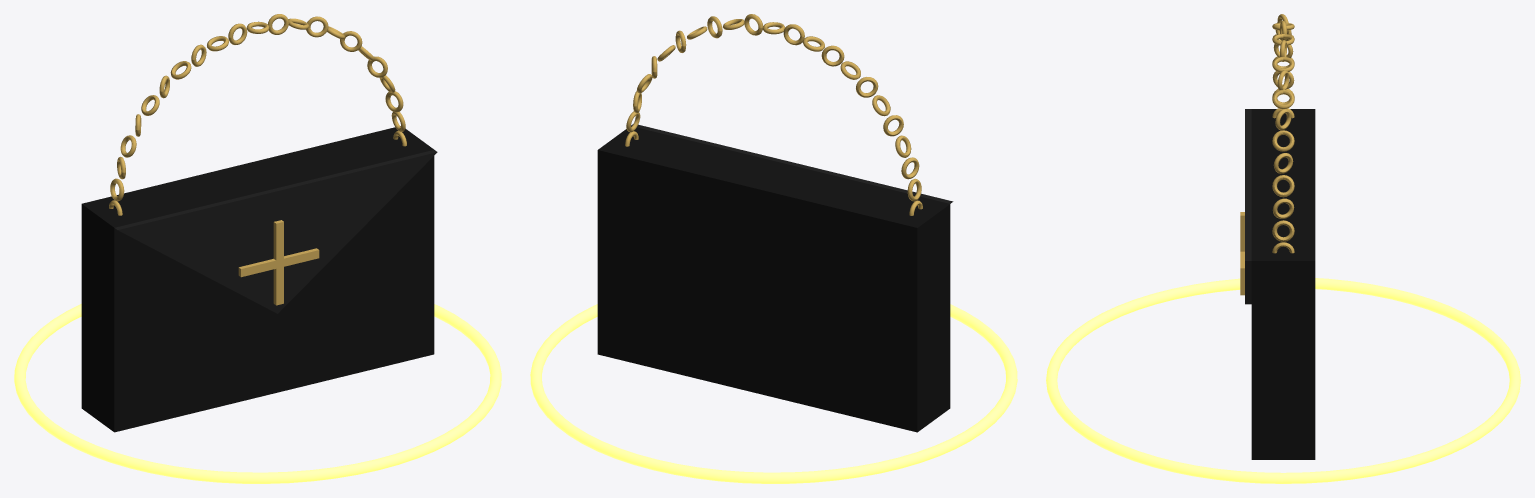
The model's file is ysl-kate-bag.glb.
3 renders of one model, left to right at view 1: azimuth 30°, elevation 25°; view 2: azimuth 150°, elevation 25°; view 3: azimuth 270°, elevation 25°, orthographic. The views are drawn at different scales.
Parts seen in each view (by area): view 1: Body, Flap, Halo, EmblemBar, EmblemStem; view 2: Body, Halo, Flap; view 3: Body, Halo, Flap.
Part boxes in pixels (x1,y1,x2,y2): Body: (81, 126, 434, 432); Flap: (114, 149, 437, 313); Halo: (14, 304, 501, 483); EmblemBar: (238, 248, 319, 277); EmblemStem: (273, 220, 283, 305); Body: (597, 126, 950, 432); Halo: (530, 304, 1017, 483); Flap: (631, 124, 953, 203); Body: (1251, 109, 1315, 459); Halo: (1046, 278, 1520, 483); Flap: (1245, 109, 1251, 304).
Size of the model in its own units: 0.1188 by 0.0978 by 0.1188.
